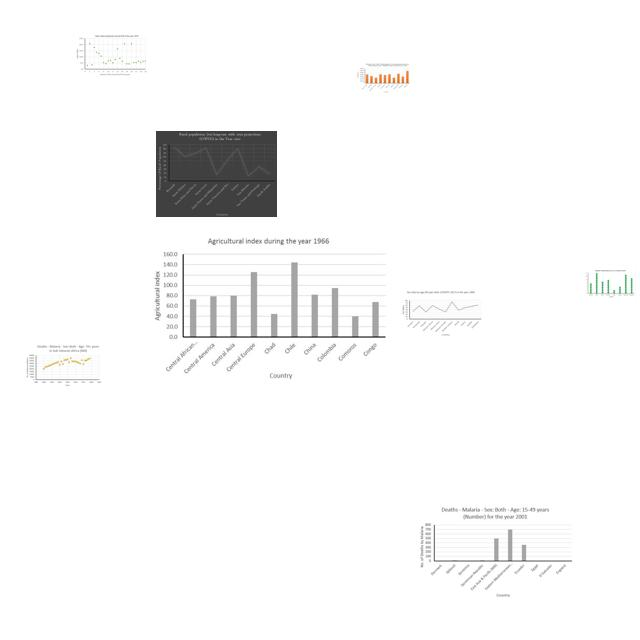Graph: (149, 234, 390, 379), (418, 506, 575, 598), (156, 131, 277, 217), (399, 290, 483, 337), (25, 344, 102, 388), (76, 34, 147, 76), (357, 63, 411, 93), (585, 269, 636, 299)
